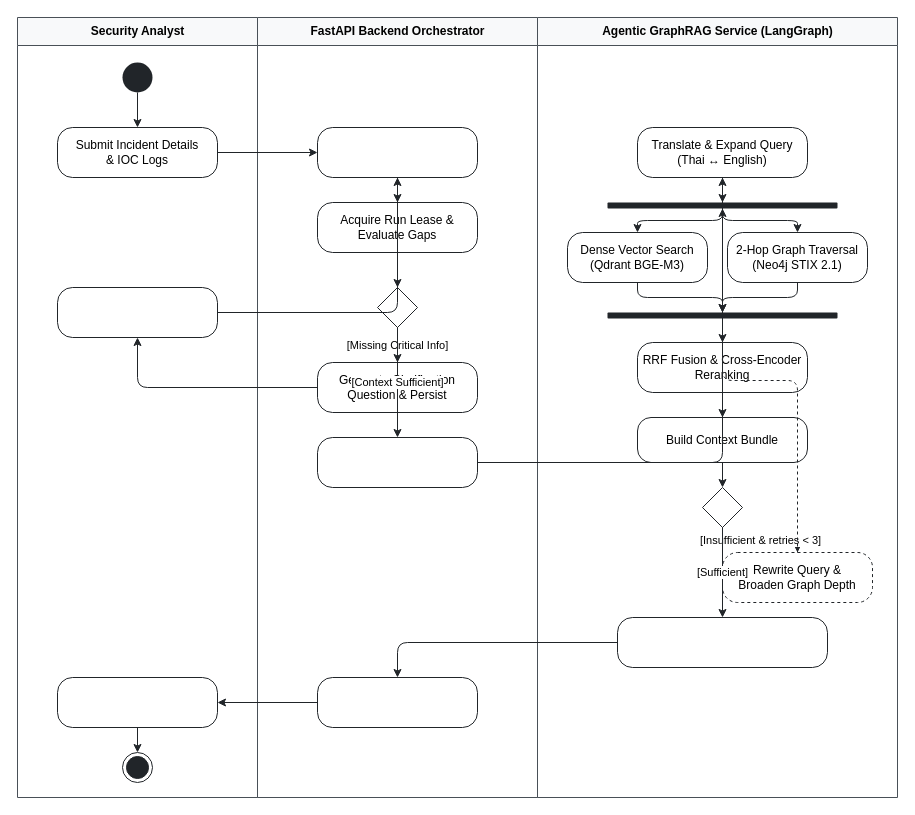
Image size: 915x815. Some labels were removed from this diagram. Here are the shapes that lost their labels. From the top down, the box of each, then its label:
(316, 126, 478, 178): Persist User Message in PostgreSQL
(56, 286, 218, 338): Provide Missing Incident Indicators
(316, 436, 478, 488): Dispatch Query Payload via HTTP (POST /query)
(616, 616, 828, 668): Reasoning LLM (GPT-5.6) Map MITRE ATT&CK & Ground Evidence
(56, 676, 218, 728): Review Grounded ATT&CK Analysis
(316, 676, 478, 728): Persist RAG Context & Stream Assistant Turn
